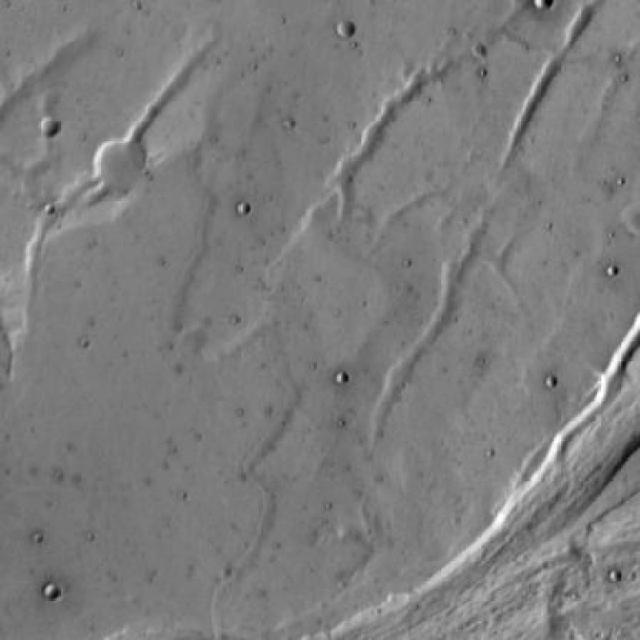crater: (94, 139, 149, 193), (41, 115, 62, 137), (340, 19, 355, 35)
